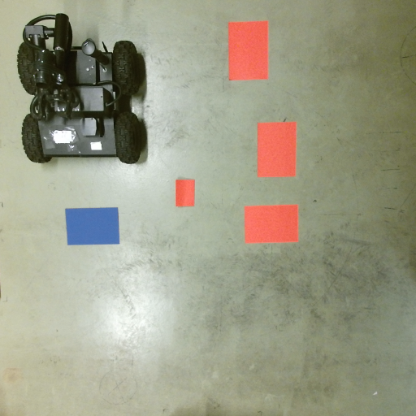Blue: (63, 208, 122, 246)
Jaguar: (17, 11, 146, 166)
Red: (224, 19, 271, 81), (242, 204, 302, 245), (257, 123, 298, 177), (174, 179, 195, 208)
